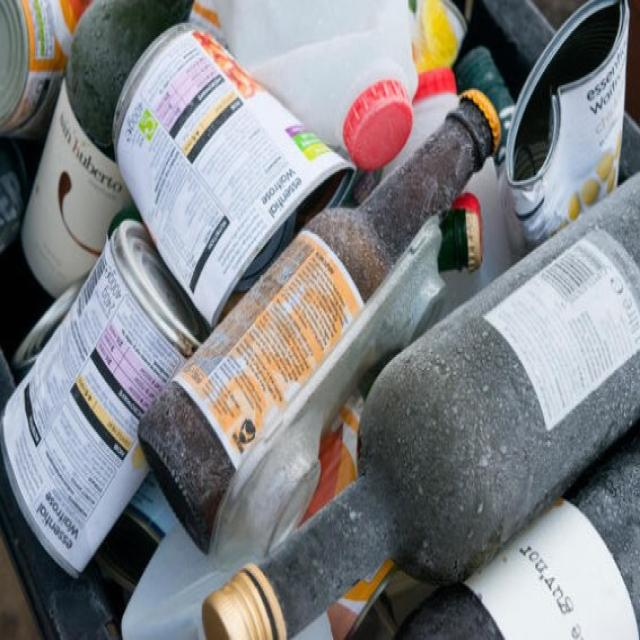electronic: (201, 171, 640, 638), (141, 84, 505, 565), (8, 0, 196, 364)
